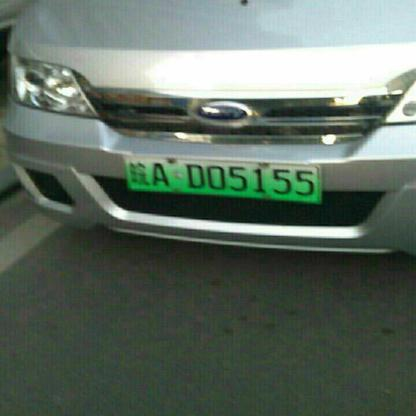lp: (125, 156, 320, 203)
